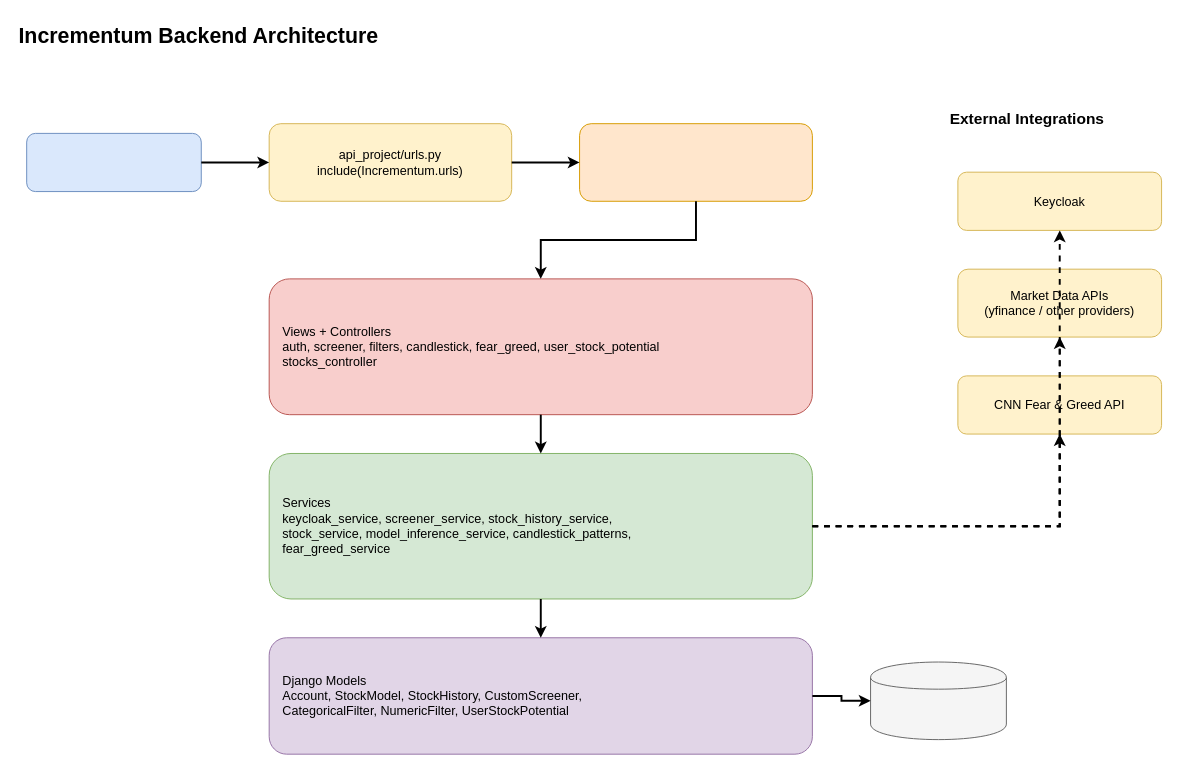
Some shapes in this 1197 by 771 pixel diagram are drawn without their labels. The box of each missing label's shape, as (x1, y1, x2, y2) in pixels:
Frontend Client: (26, 132, 201, 192)
Incrementum/urls.py Endpoint Routing: (579, 123, 812, 201)
PostgreSQL: (870, 661, 1006, 740)
